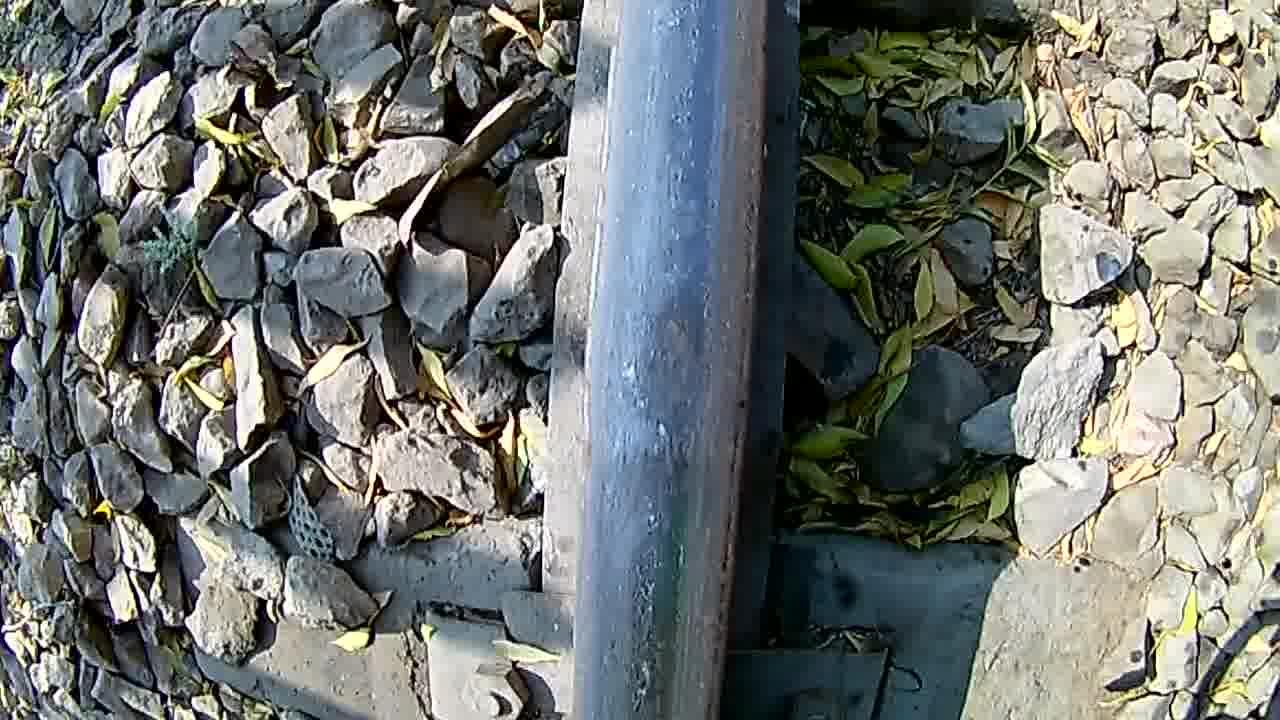bolt_missing: (596, 262, 772, 494)
